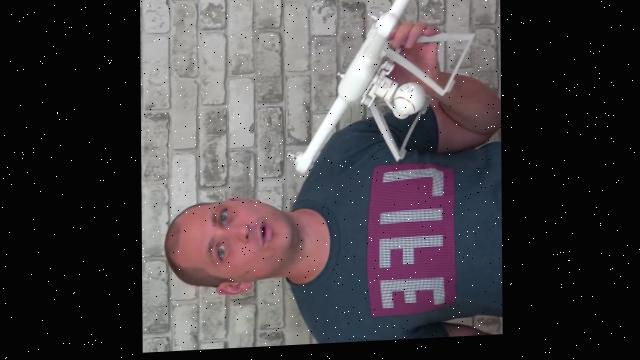drone: (276, 0, 464, 187)
